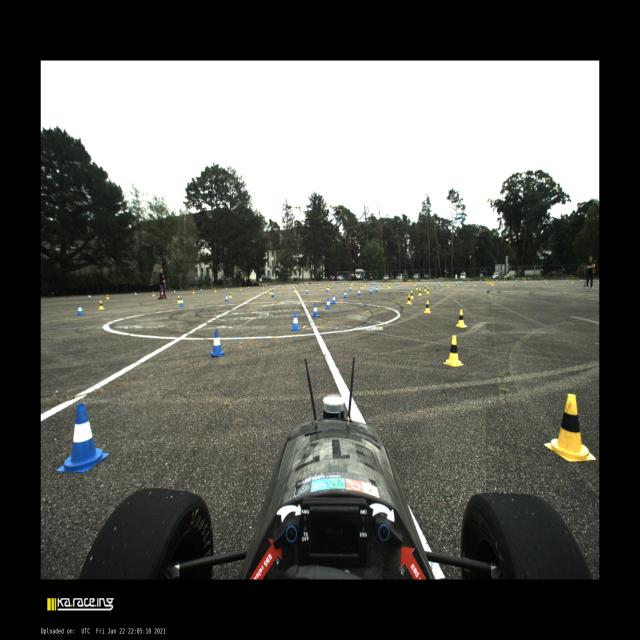blue_cone: (56, 403, 110, 472), (209, 330, 225, 357), (291, 312, 300, 331), (77, 304, 84, 316), (313, 304, 319, 317), (326, 298, 331, 309), (332, 294, 336, 304), (357, 288, 361, 296), (180, 298, 184, 306), (343, 291, 347, 298), (225, 294, 229, 301), (271, 290, 274, 298), (349, 285, 352, 291), (326, 287, 329, 292), (370, 288, 372, 294), (376, 286, 378, 292), (88, 294, 91, 298), (306, 288, 308, 294), (134, 292, 137, 296), (594, 278, 596, 282), (456, 281, 458, 285), (396, 282, 398, 286), (174, 290, 176, 294), (225, 287, 227, 291), (416, 281, 418, 285), (460, 280, 462, 284), (580, 279, 582, 282), (566, 279, 568, 282), (479, 280, 481, 283), (467, 280, 469, 283), (459, 281, 461, 284), (366, 281, 368, 284), (374, 282, 376, 285), (543, 279, 545, 282), (516, 279, 517, 283), (439, 281, 440, 285), (280, 285, 282, 287), (293, 284, 295, 286), (334, 282, 336, 284), (355, 282, 357, 284), (201, 289, 202, 292), (248, 286, 249, 289), (266, 285, 267, 288), (321, 282, 322, 285), (381, 282, 382, 285), (496, 280, 497, 282), (305, 283, 306, 285), (345, 282, 346, 284), (373, 282, 374, 284), (372, 282, 373, 284), (371, 282, 372, 284)
yellow_cone: (544, 393, 596, 462), (444, 335, 464, 366), (455, 310, 467, 328), (424, 300, 431, 313), (406, 294, 412, 304), (98, 300, 104, 310), (410, 290, 414, 299), (418, 288, 422, 296), (228, 291, 232, 298), (106, 294, 110, 300), (177, 295, 180, 303), (426, 287, 429, 294), (152, 291, 155, 297), (192, 289, 195, 294), (293, 287, 296, 292), (446, 282, 449, 286), (214, 288, 217, 292), (416, 284, 418, 290), (424, 286, 426, 292), (269, 288, 271, 294), (240, 286, 242, 291), (361, 284, 363, 289), (489, 280, 491, 285), (474, 282, 476, 286), (571, 280, 573, 284), (544, 279, 546, 283), (524, 279, 526, 283), (504, 280, 506, 284), (487, 280, 489, 284), (364, 282, 366, 286), (388, 284, 390, 288), (414, 282, 416, 286), (282, 284, 284, 288), (491, 281, 492, 286), (328, 285, 329, 290), (387, 282, 388, 286), (319, 282, 320, 286), (332, 282, 334, 284), (352, 281, 353, 285), (493, 281, 494, 285), (598, 279, 599, 283), (307, 283, 308, 286), (351, 283, 352, 286), (263, 286, 264, 288), (296, 284, 297, 286), (343, 282, 344, 284)
